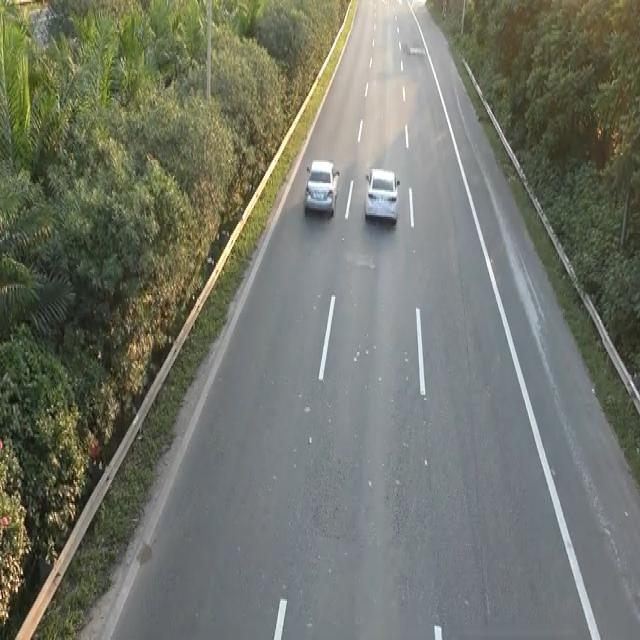bus: (302, 154, 340, 218), (363, 164, 400, 224)
